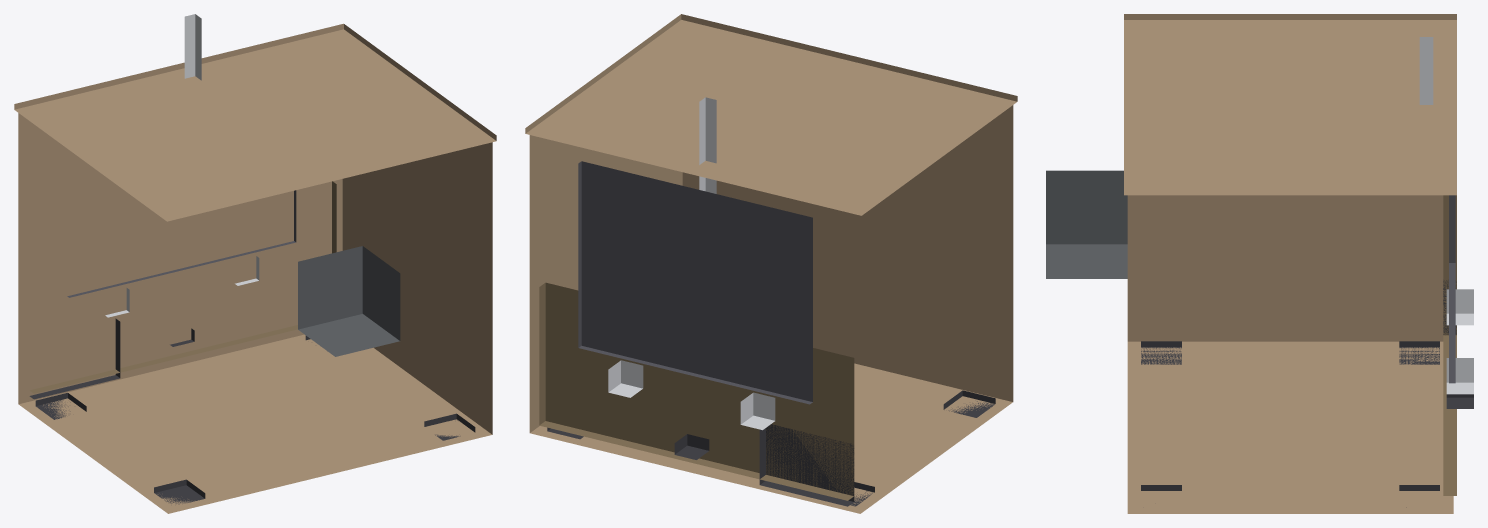
File: whole.gltf
3 renders of one model, left to right at view 1: azimuth 30°, elevation 25°; view 2: azimuth 150°, elevation 25°; view 3: azimuth 270°, elevation 25°, orthographic. The views are drawn at different scales.
Visible parts, largest first — view 1: whole; view 2: whole; view 3: whole.
Part boxes in pixels (x1,y1,x2,y2): whole: [14, 14, 496, 513]; whole: [525, 14, 1017, 513]; whole: [1046, 14, 1473, 513].
Bounding box in the file's own units: 0.61 × 0.63 × 0.63.
